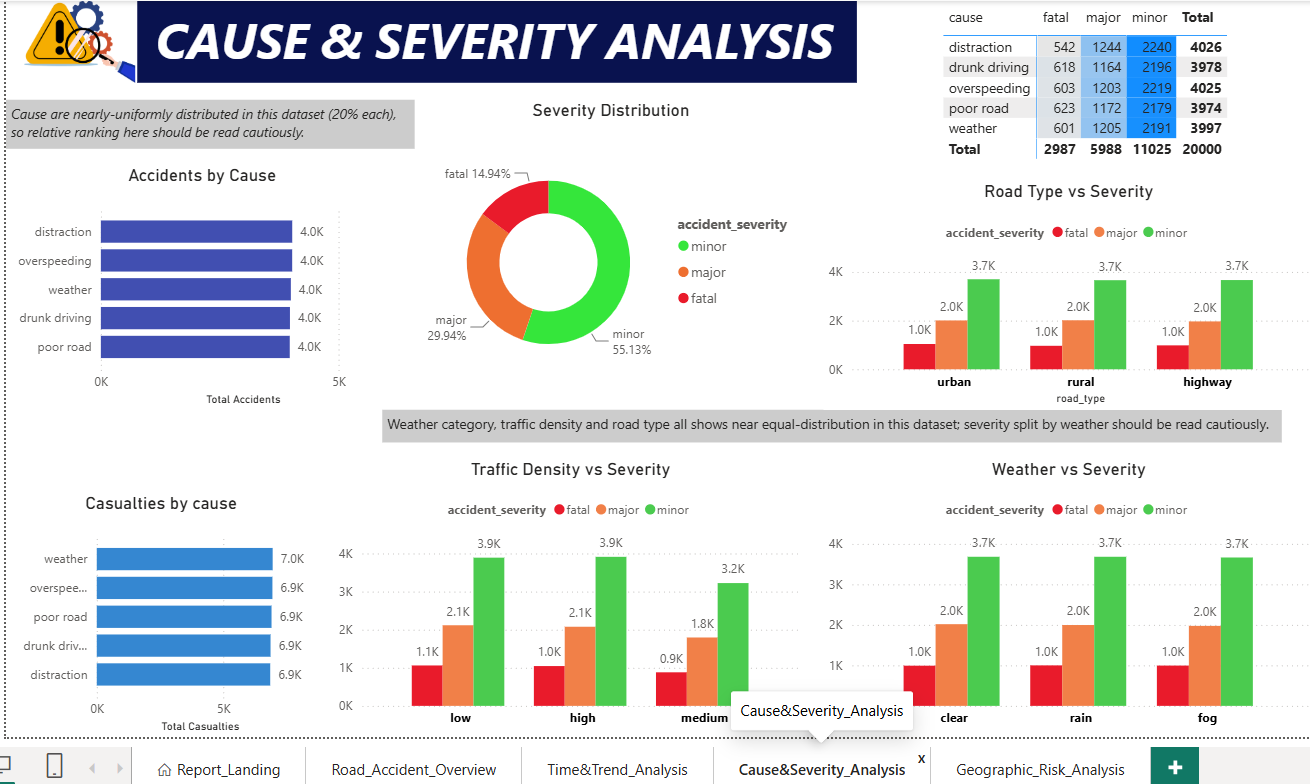

Layout of this report page (visuals, bound fields, positions):
{"tool":"powerbi","page":{"name":"Cause&Severity_Analysis","canvas":[1280,720],"ordinal":3},"visuals":[{"type":"textbox","box":[128,0,704,80],"z":0},{"type":"clusteredBarChart","title":"Accidents by Cause","fields":{"Category":["Road Accidents.cause"],"Y":["Measure.Total Accidents"]},"box":[0,160,384,240],"z":1000},{"type":"textbox","box":[0,96,400,48],"z":2000},{"type":"image","box":[0,0,144,80],"z":3000},{"type":"clusteredBarChart","title":"Casualties by cause","fields":{"Category":["Road Accidents.cause"],"Y":["Measure.Total Casualties"]},"box":[0,480,304,240],"z":4000},{"type":"donutChart","title":"Severity Distribution","fields":{"Category":["Road Accidents.accident_severity"],"Y":["Measure.Total Accidents"]},"box":[400,96,384,288],"z":5000},{"type":"pivotTable","fields":{"Rows":["Road Accidents.cause"],"Columns":["Road Accidents.accident_severity"],"Values":["Measure.Total Accidents"]},"box":[912,0,304,160],"z":6000},{"type":"clusteredColumnChart","title":"Weather vs Severity","fields":{"Category":["Road Accidents.weather"],"Series":["Road Accidents.accident_severity"],"Y":["Measure.Total Accidents"]},"box":[800,448,480,272],"z":7000},{"type":"textbox","box":[368,400,880,32],"z":8000},{"type":"clusteredColumnChart","title":"Traffic Density vs Severity","fields":{"Category":["Road Accidents.traffic_density"],"Series":["Road Accidents.accident_severity"],"Y":["Measure.Total Accidents"]},"box":[320,448,464,272],"z":9000},{"type":"clusteredColumnChart","title":"Road Type vs Severity","fields":{"Category":["Road Accidents.road_type"],"Series":["Road Accidents.accident_severity"],"Y":["Measure.Total Accidents"]},"box":[800,176,480,224],"z":10000}]}

Visuals, with their boxes on the page's 1280x720 design canvas (x1, y1, x2, y2). These are canvas units, not pixel positions in the 1310x784 screenshot, which may show the page scaled, cropped or inside an application window:
textbox: box(128, 0, 832, 80)
"Accidents by Cause" clusteredBarChart: box(0, 160, 384, 400)
textbox: box(0, 96, 400, 144)
image: box(0, 0, 144, 80)
"Casualties by cause" clusteredBarChart: box(0, 480, 304, 720)
"Severity Distribution" donutChart: box(400, 96, 784, 384)
pivotTable - Road Accidents.cause x Road Accidents.accident_severity: box(912, 0, 1216, 160)
"Weather vs Severity" clusteredColumnChart: box(800, 448, 1280, 720)
textbox: box(368, 400, 1248, 432)
"Traffic Density vs Severity" clusteredColumnChart: box(320, 448, 784, 720)
"Road Type vs Severity" clusteredColumnChart: box(800, 176, 1280, 400)
